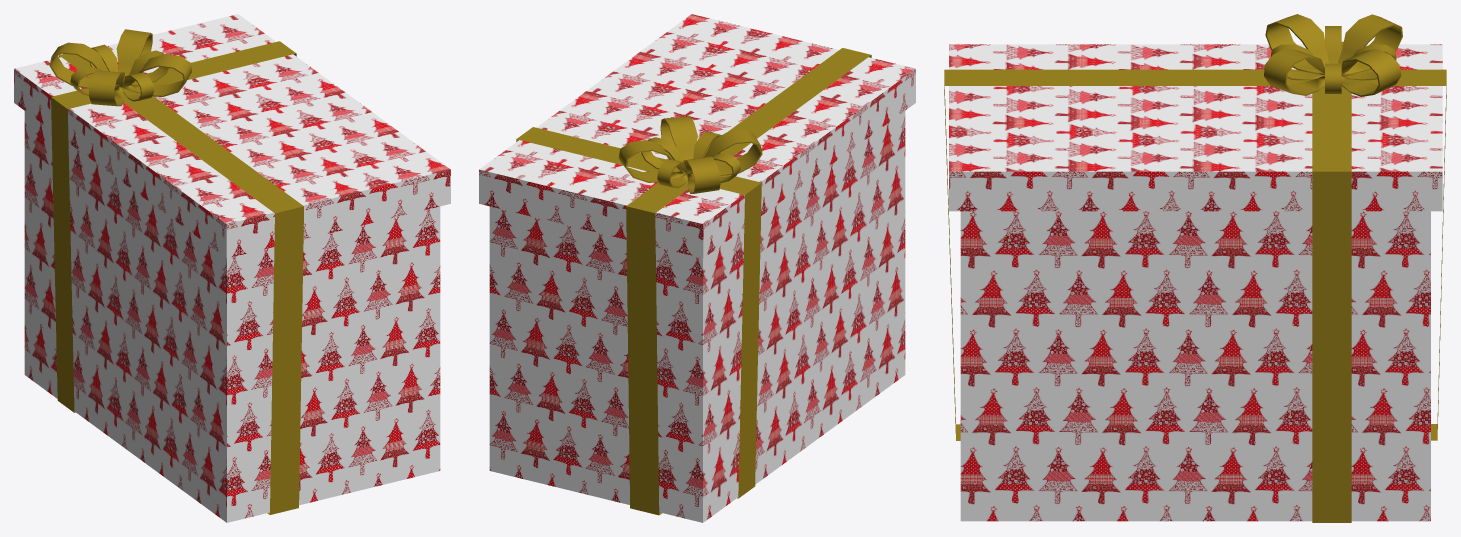
Rendered from gift 04 ribbon02.fbx.
3 renders of one model, left to right at view 1: azimuth 30°, elevation 25°; view 2: azimuth 150°, elevation 25°; view 3: azimuth 270°, elevation 25°, orthographic. The views are drawn at different scales.
Parts seen in each view (by area): view 1: gift, ribbon_02, Gift04; view 2: gift, ribbon_02, Gift04; view 3: gift, ribbon_02, Gift04.
Part boxes in pixels (x1,y1,x2,y2): gift: (14, 14, 450, 522); ribbon_02: (51, 41, 303, 514); Gift04: (49, 29, 192, 106); gift: (479, 14, 915, 522); ribbon_02: (516, 48, 871, 515); Gift04: (618, 116, 762, 193); gift: (949, 44, 1442, 521); ribbon_02: (944, 41, 1446, 522); Gift04: (1264, 14, 1402, 96).
Size of the model in its own units: 39.26 by 55.61 by 64.31.
Materials: 2 (1 with a texture image).
